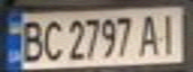2: (63, 16, 84, 61)
7: (115, 12, 136, 59), (81, 15, 100, 60)
9: (100, 14, 121, 58)
A: (136, 11, 163, 56)
B: (15, 17, 48, 63)
C: (39, 16, 66, 63)
I: (154, 9, 184, 55)
